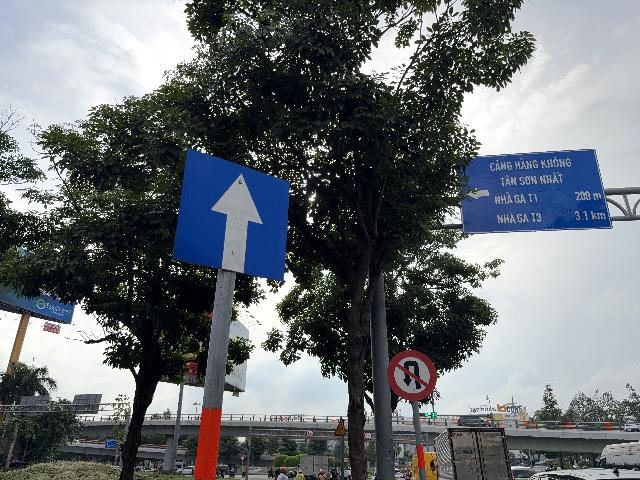cam-quay-dau-xe: (387, 350, 437, 401)
duong-mot-chieu: (171, 148, 290, 282)
